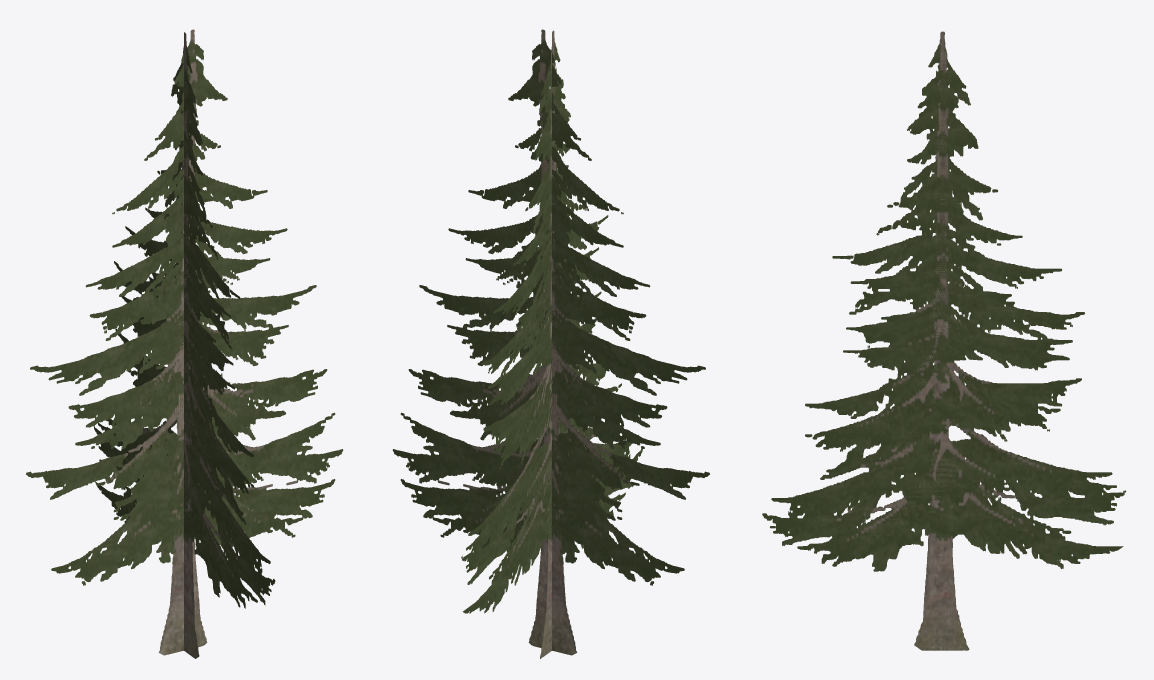
The model's file is Spruce_7_LOD5.fbx.
The picture shows the model from 3 angles, left to right: view 1: azimuth 30°, elevation 25°; view 2: azimuth 150°, elevation 25°; view 3: azimuth 270°, elevation 25°; orthographic projection.
Parts seen in each view (by area): view 1: Spruce_7 Imposter_0; view 2: Spruce_7 Imposter_0; view 3: Spruce_7 Imposter_0.
Boxes of the visible parts, left/top/right/bottom form: Spruce_7 Imposter_0: left=26, top=29, right=343, bottom=658; Spruce_7 Imposter_0: left=392, top=29, right=709, bottom=658; Spruce_7 Imposter_0: left=762, top=31, right=1126, bottom=650.
Size of the model in its own units: 286 by 525 by 284.
Materials: 1 (1 with a texture image).
